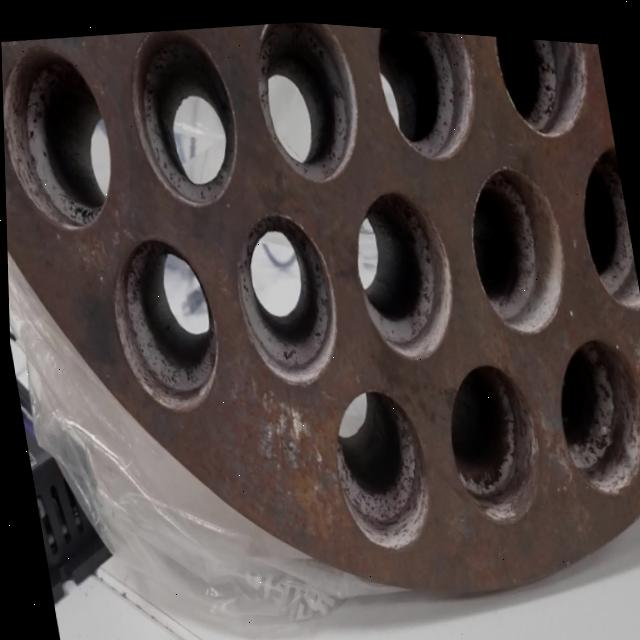Hole: (120, 18, 249, 214), (1, 34, 123, 240), (100, 224, 228, 419), (224, 197, 347, 391), (344, 176, 463, 363), (459, 150, 576, 336), (321, 374, 437, 555), (248, 14, 369, 187), (436, 347, 549, 525), (369, 21, 488, 162), (546, 321, 640, 493), (571, 132, 640, 305), (491, 29, 599, 137)
